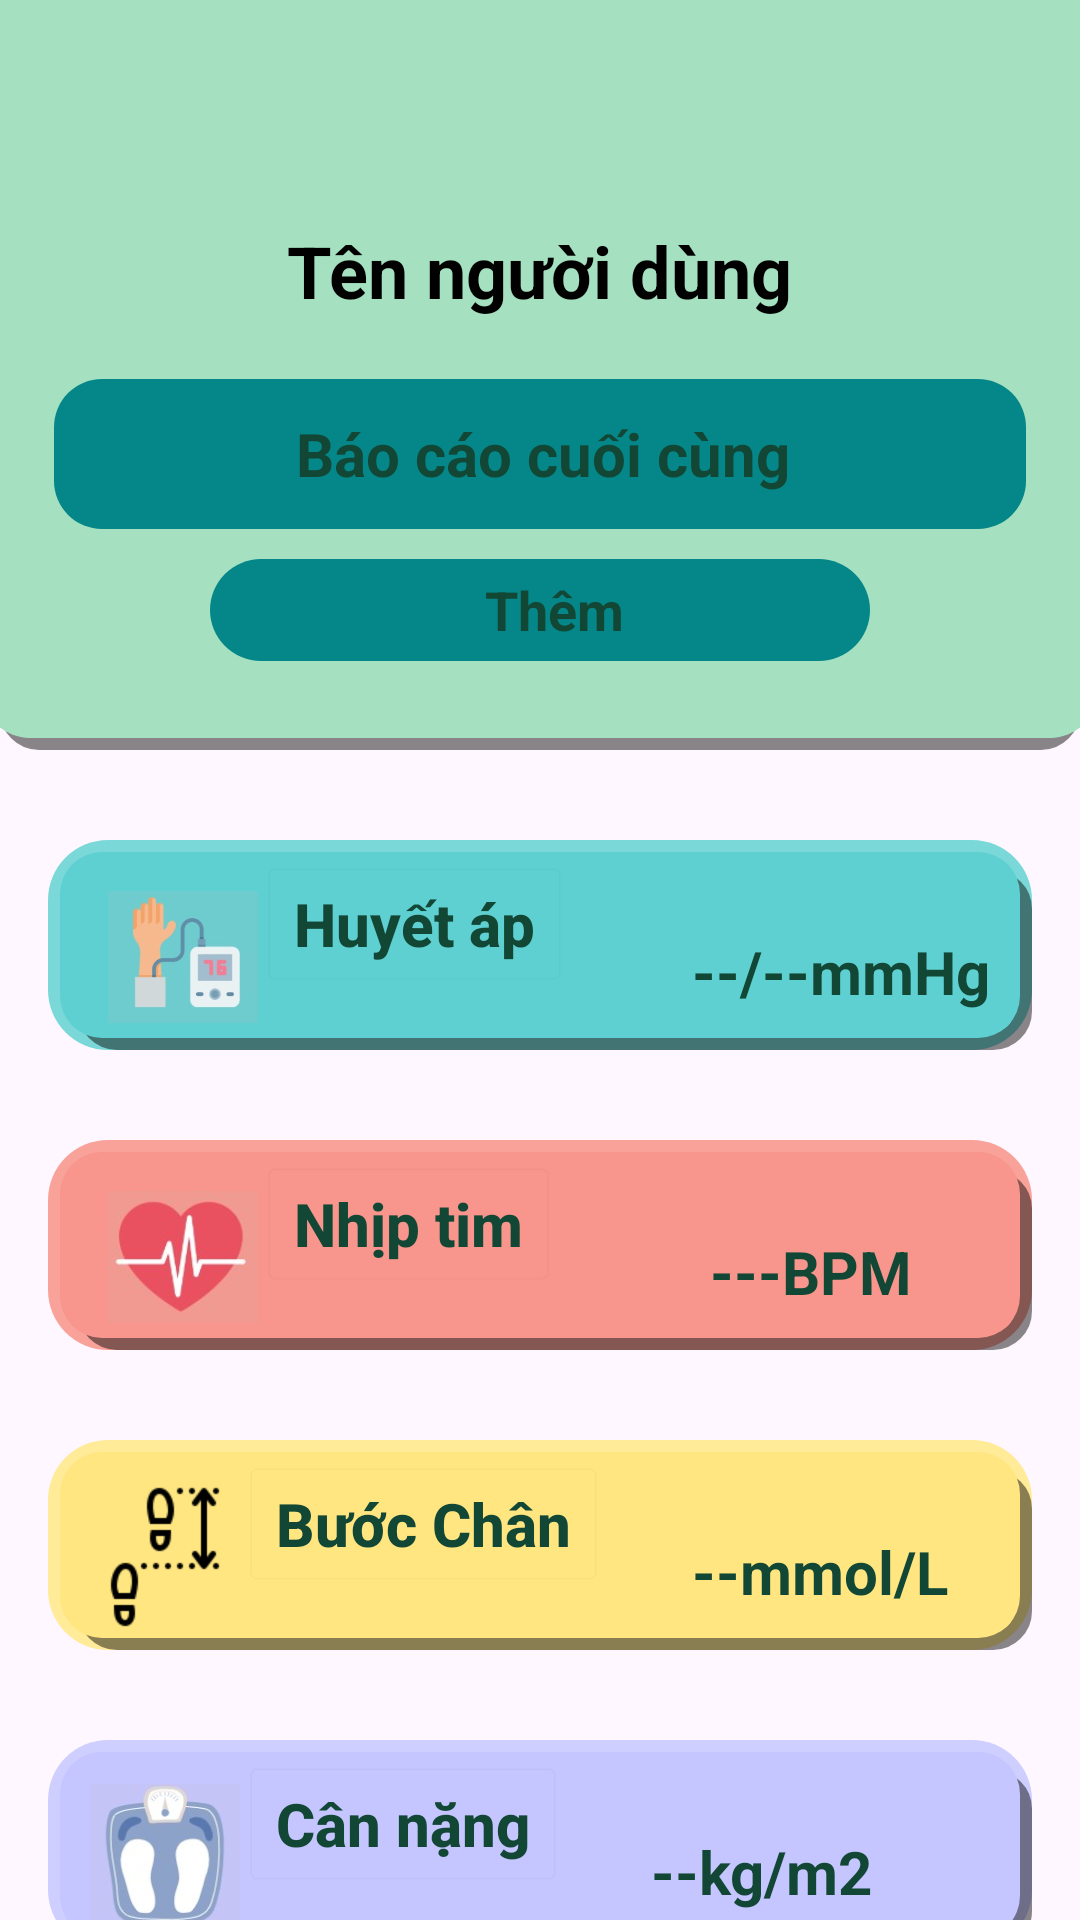

Icon bounding boxes for this 1080w x 1920h phone screenshot, format box=[x1, y1, x2, y2]:
cannang: box=[106, 1786, 224, 1920]
huyetap: box=[132, 896, 241, 1008]
nhiptim: box=[115, 1202, 247, 1311]
step: box=[110, 1487, 220, 1627]
